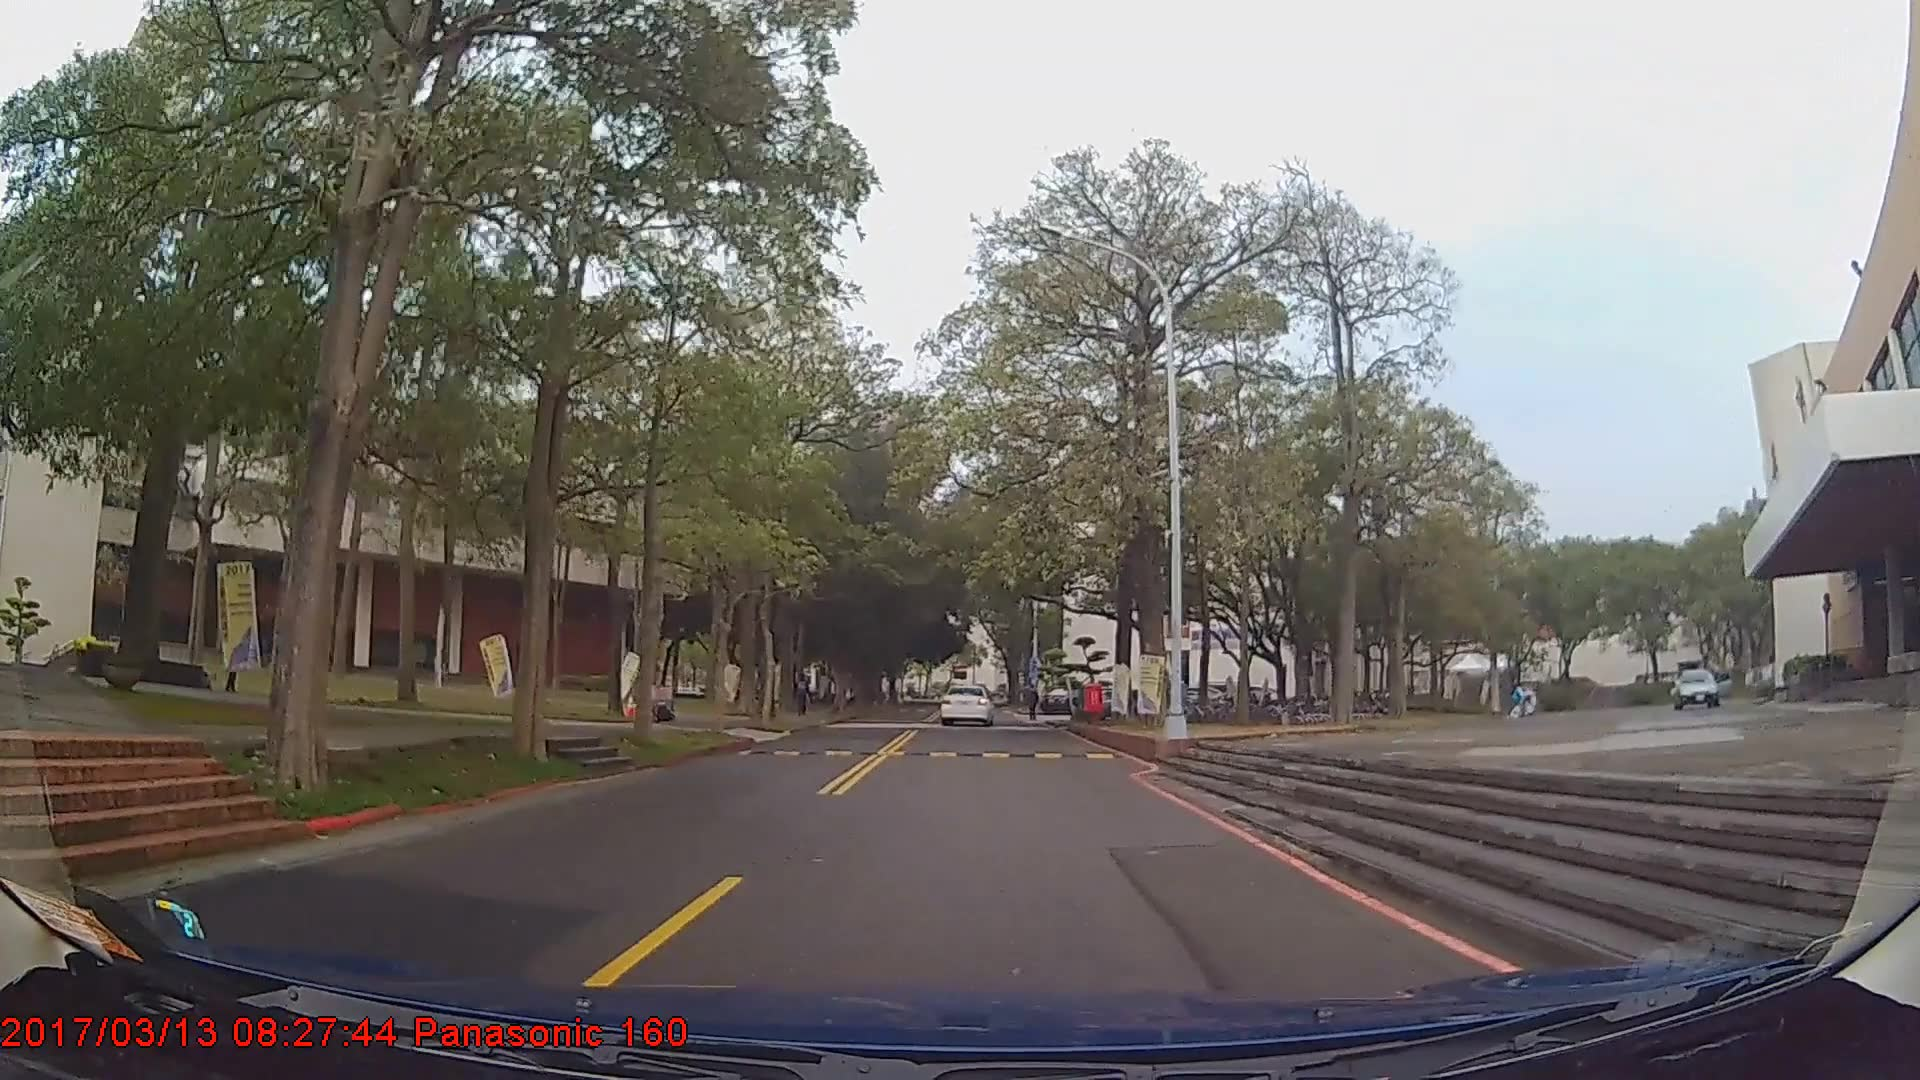pedestrian: (223, 627, 244, 694)
vehicle: (1670, 661, 1737, 707), (938, 684, 994, 727)
